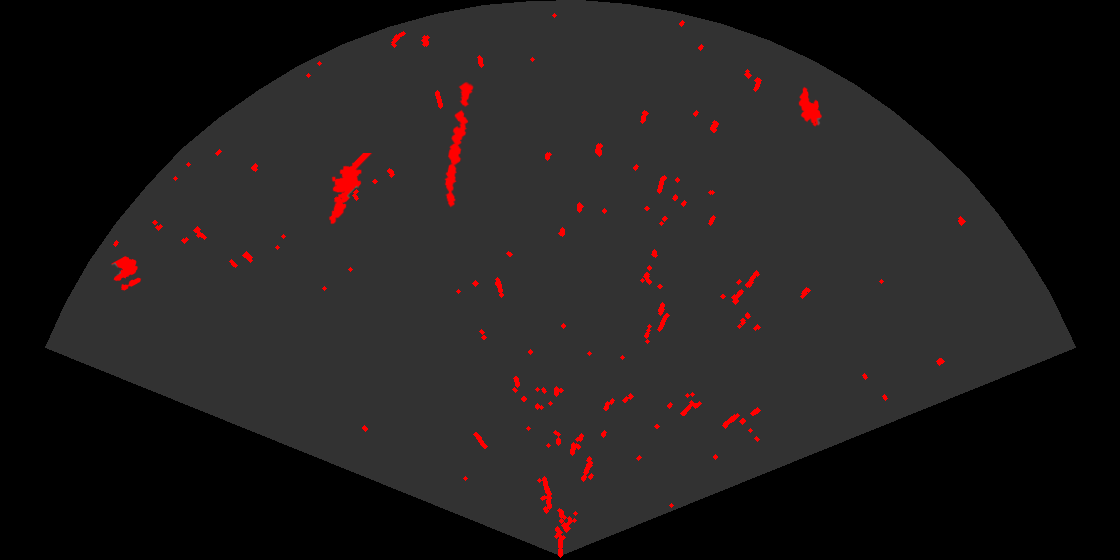AUV: (797, 85, 823, 128)
ball: (110, 254, 143, 292)
chain: (443, 79, 475, 209)
frogman: (327, 153, 374, 226)
